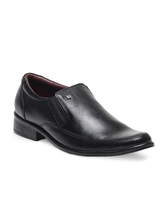shoes: (13, 74, 157, 158)
